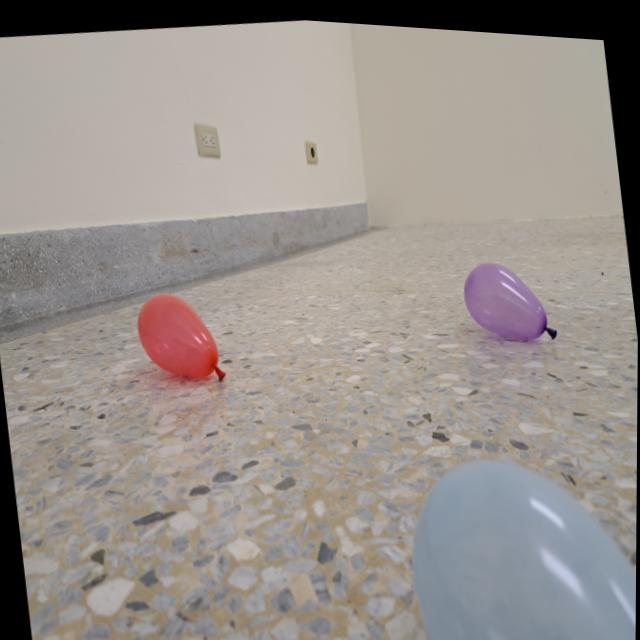other: (398, 425, 638, 640), (459, 248, 558, 346)
red: (133, 283, 228, 385)
